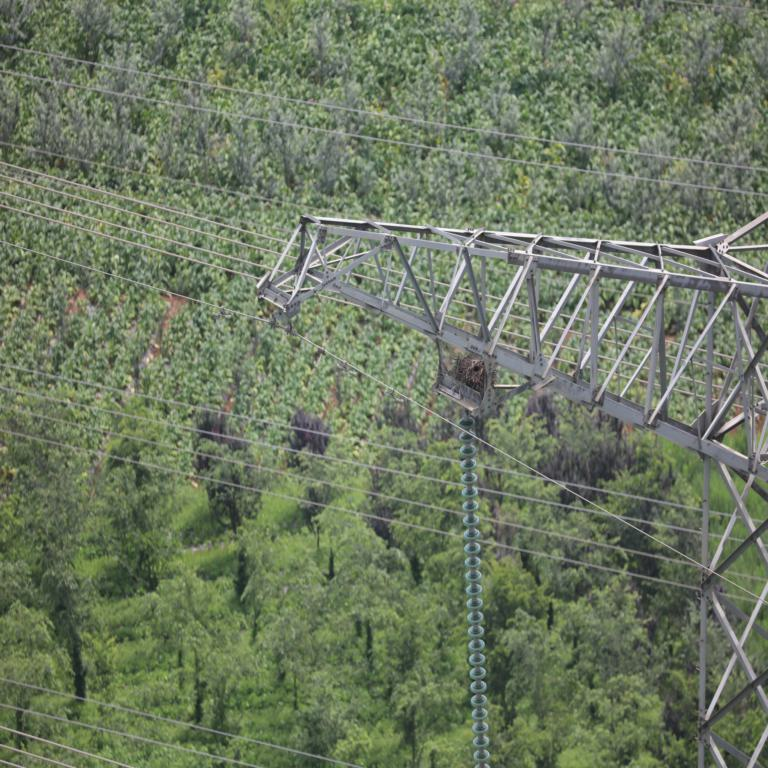nest: (452, 353, 484, 387)
